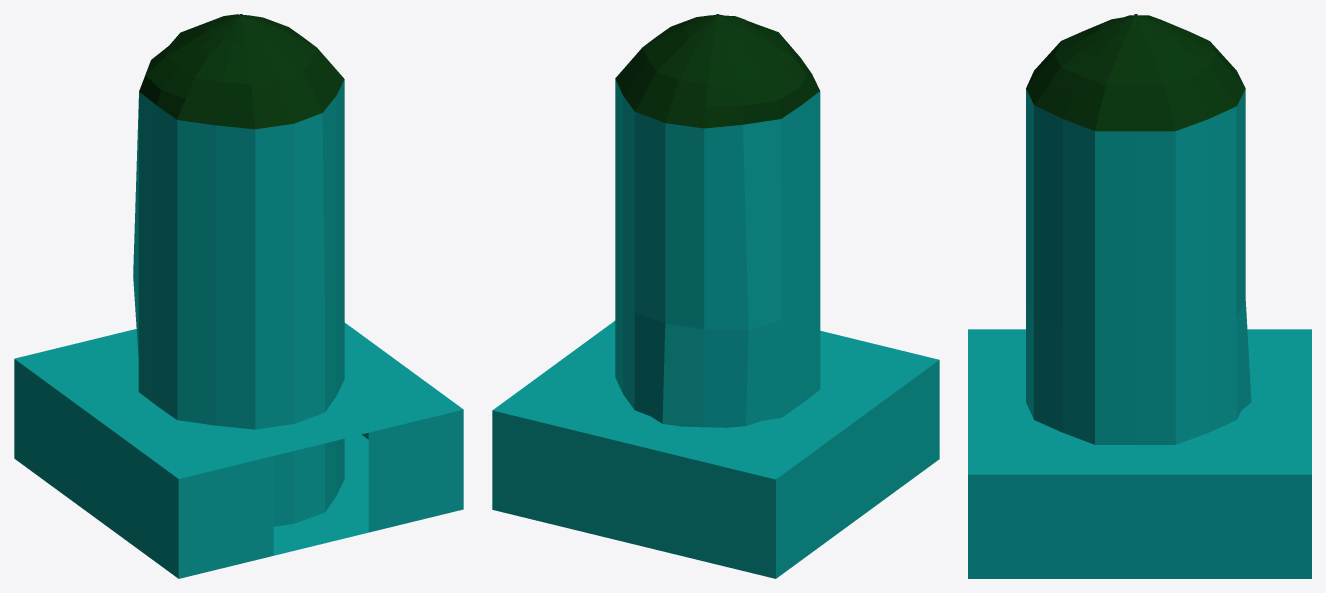
The model's file is Stockpile.obj.
The picture shows the model from 3 angles, left to right: view 1: azimuth 30°, elevation 25°; view 2: azimuth 150°, elevation 25°; view 3: azimuth 270°, elevation 25°; orthographic projection. The views are drawn at different scales.
Parts seen in each view (by area): view 1: Cube.001, Cube; view 2: Cube.001, Cube; view 3: Cube.001, Cube.
Part boxes in pixels (box(x1,y1,x2,y2)): Cube.001: box(133, 14, 344, 526); Cube: box(14, 323, 463, 578); Cube.001: box(615, 14, 820, 427); Cube: box(492, 321, 939, 578); Cube.001: box(1026, 14, 1251, 444); Cube: box(968, 329, 1311, 578).
Bounding box in the file's own units: 0.7764 × 1.23 × 0.7764.
